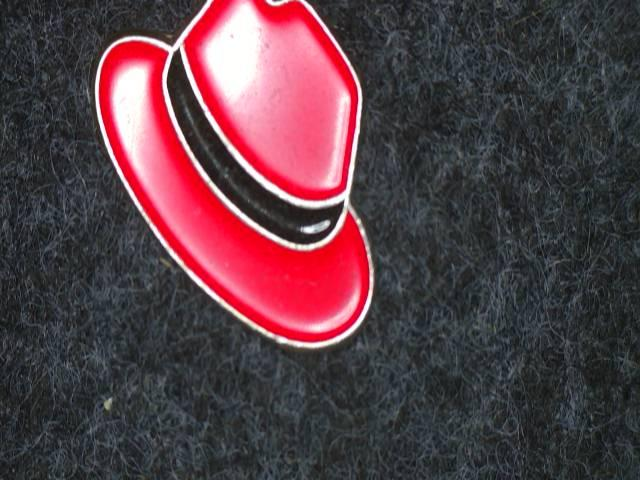Red-Hat: (74, 0, 405, 381)
